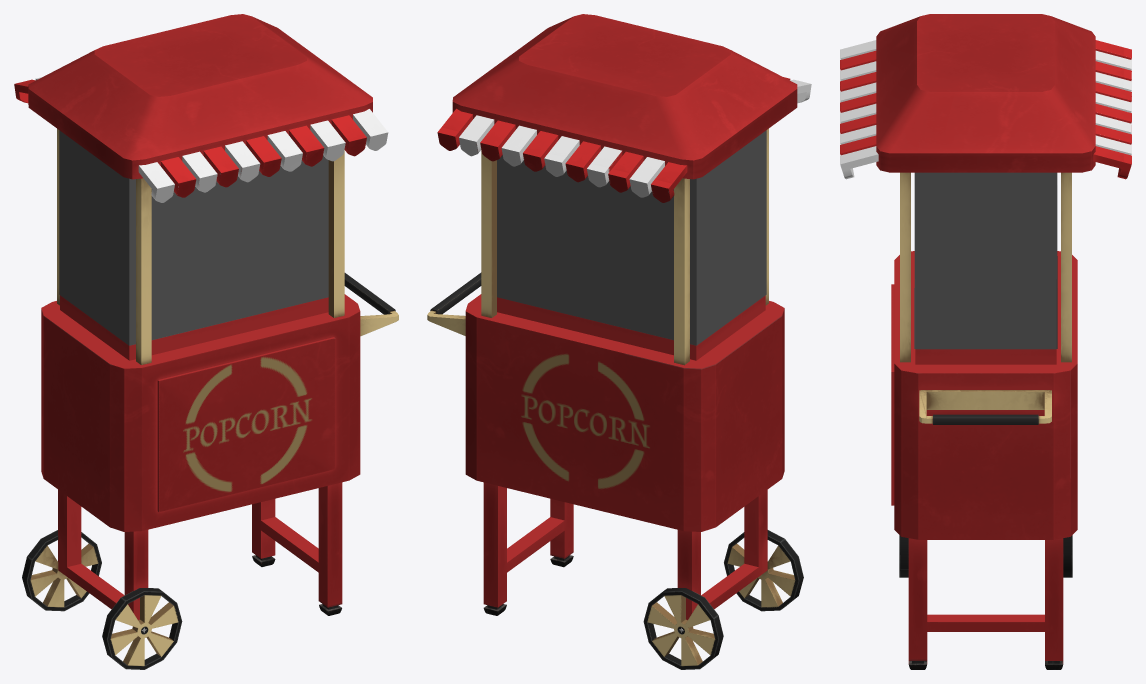
File: Popcorn Machine Improved.fbx
3 views of the same model, side by side, from view 1: azimuth 30°, elevation 25°; view 2: azimuth 150°, elevation 25°; view 3: azimuth 270°, elevation 25° (orthographic).
Visible parts, largest first — view 1: Bottom Part, Glass, Top Part, Legs, Top Supports, Wheels, Pillars, Handle; view 2: Bottom Part, Glass, Top Part, Legs, Top Supports, Wheels, Pillars, Handle; view 3: Top Part, Bottom Part, Glass, Top Supports, Legs, Pillars, Handle, Wheels.
Boxes of the visible parts, <box> form: Bottom Part: <box>41,294,360,531</box>; Glass: <box>59,130,328,345</box>; Top Part: <box>28,14,372,179</box>; Legs: <box>58,482,342,620</box>; Top Supports: <box>14,77,388,202</box>; Wheels: <box>22,530,182,669</box>; Pillars: <box>57,129,344,364</box>; Handle: <box>344,273,398,336</box>; Bottom Part: <box>465,294,784,531</box>; Glass: <box>497,130,766,345</box>; Top Part: <box>452,14,797,179</box>; Legs: <box>483,482,767,620</box>; Top Supports: <box>437,77,811,202</box>; Wheels: <box>643,530,803,669</box>; Pillars: <box>481,128,768,365</box>; Handle: <box>427,272,481,335</box>; Top Part: <box>876,14,1095,172</box>; Bottom Part: <box>891,251,1077,539</box>; Glass: <box>914,172,1057,349</box>; Top Supports: <box>840,40,1131,179</box>; Legs: <box>908,538,1063,669</box>; Pillars: <box>900,172,1071,362</box>; Handle: <box>919,390,1051,424</box>; Wheels: <box>899,535,1072,577</box>.
Bounding box in the file's own units: 357 × 625 × 290.
10 materials, 10 textured.
